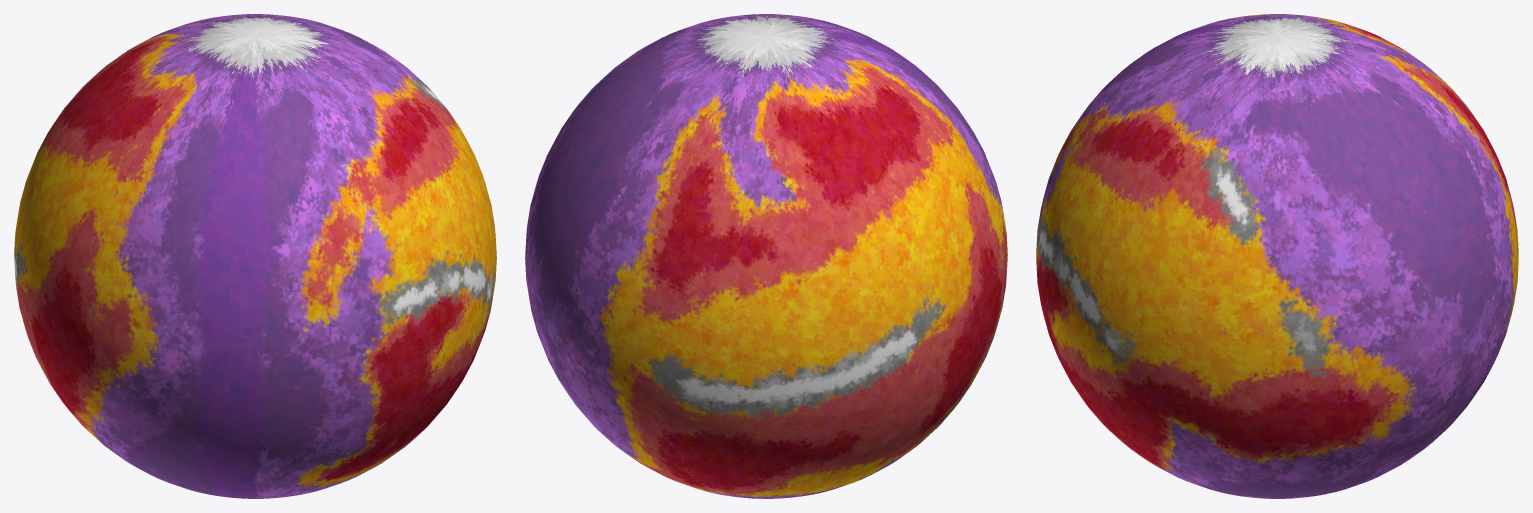
The model's file is PLanet.fbx.
3 views of the same model, side by side, from view 1: azimuth 30°, elevation 25°; view 2: azimuth 150°, elevation 25°; view 3: azimuth 270°, elevation 25° (orthographic).
Parts seen in each view (by area): view 1: Sphere; view 2: Sphere; view 3: Sphere.
Boxes of the visible parts, x1=… form: Sphere: x1=14, y1=14, x2=496, y2=498; Sphere: x1=525, y1=14, x2=1007, y2=498; Sphere: x1=1036, y1=14, x2=1518, y2=498.
Bounding box in the file's own units: 1972 × 1995 × 1972.
